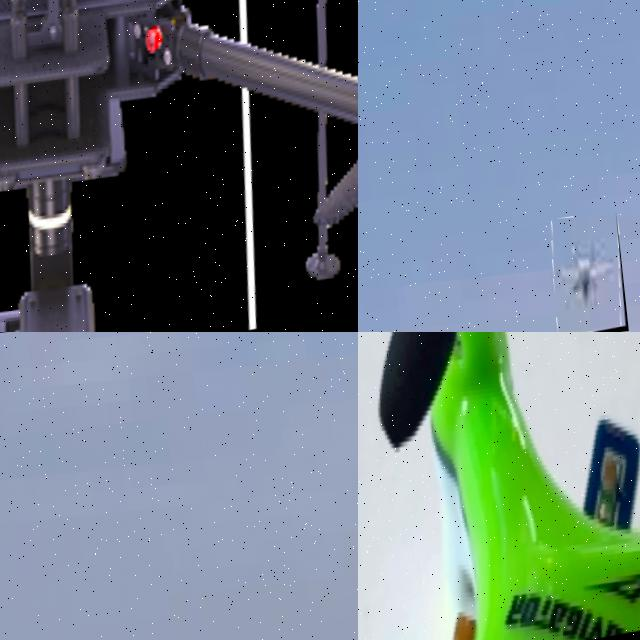drone: (0, 0, 358, 332), (358, 332, 640, 640), (546, 212, 628, 332)
